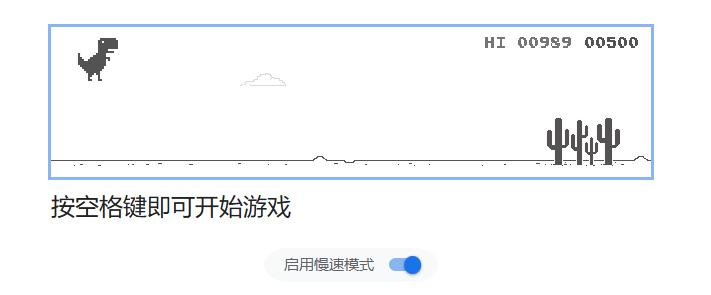cactus: (544, 116, 624, 167)
dino: (78, 36, 120, 84)
